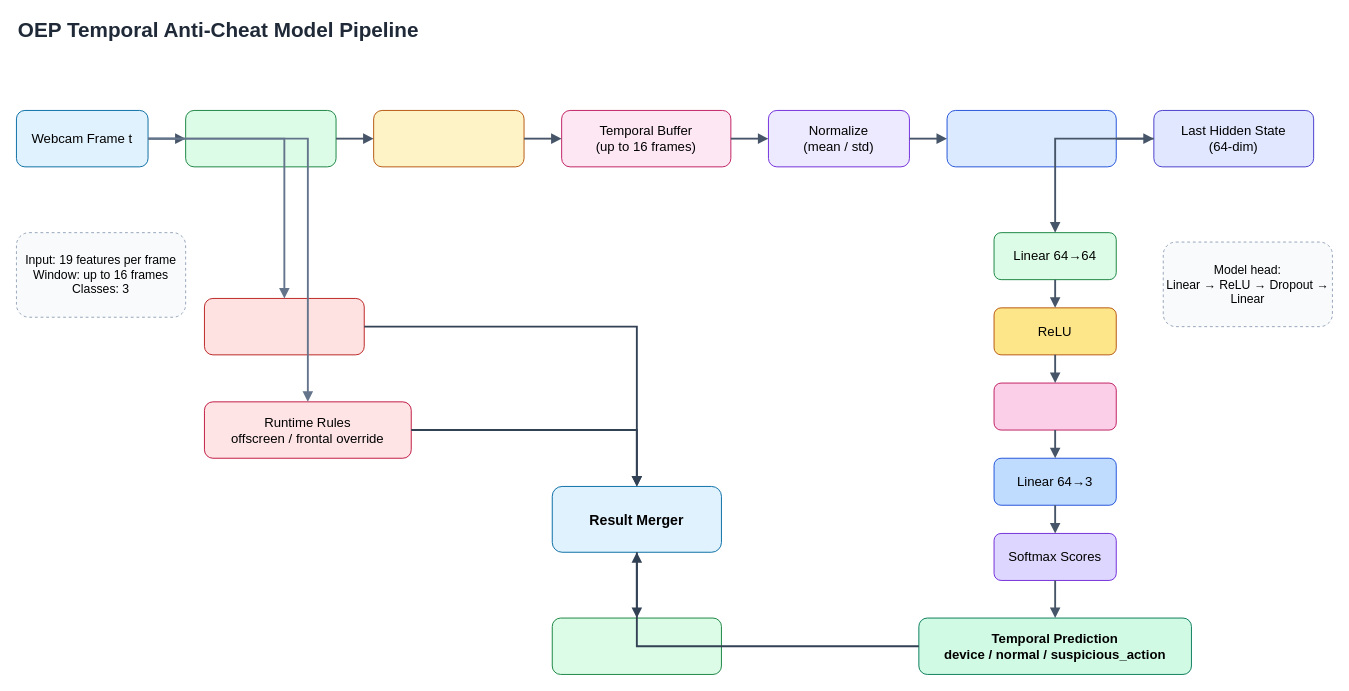
The diagram is 1349 pixels wide and 691 high, and some of its shapes have lost their labels. Here are the shapes that lost their labels. From the top down, the centre of each, then its label:
At [260,138]: "Feature Extractor".
At [448,138]: "19 Features / Frame".
At [1031,138]: "LSTM input=19, hidden=64".
At [284,326]: "YOLO Phone Detection".
At [1054,406]: "Dropout 0.2".
At [636,645]: "Final Label on UI".
